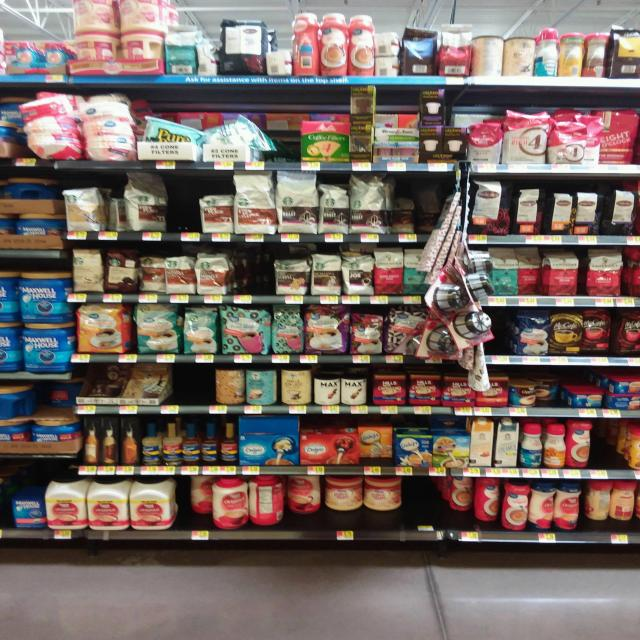empty_space: (168, 178, 196, 230), (490, 309, 514, 353), (184, 370, 214, 402), (599, 421, 619, 468), (414, 486, 434, 522)
